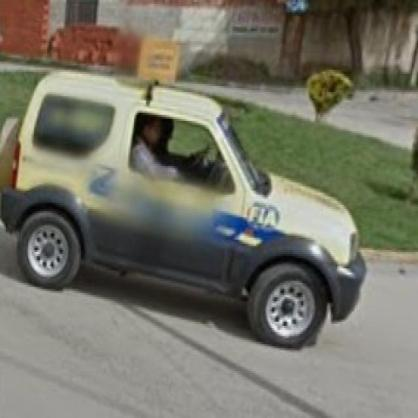car: (9, 75, 369, 355)
